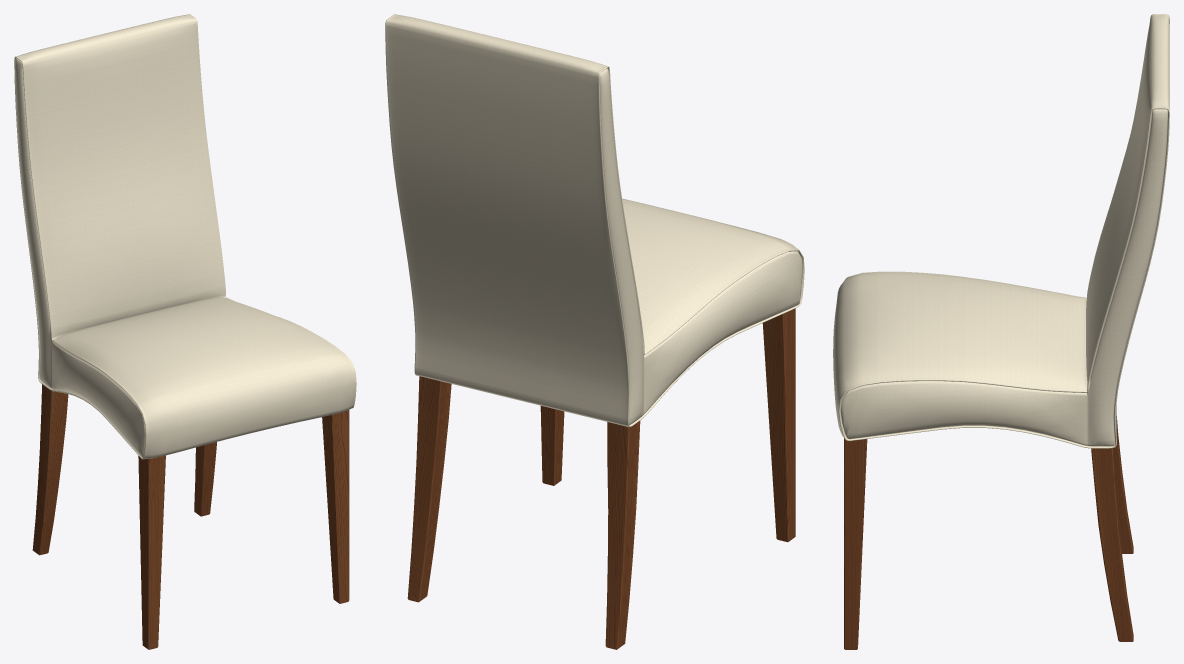
The model's file is cattelan_italia_cindy_obj.obj.
3 views of the same model, side by side, from view 1: azimuth 30°, elevation 25°; view 2: azimuth 150°, elevation 25°; view 3: azimuth 270°, elevation 25° (orthographic). The views are drawn at different scales.
Visible parts, largest first — view 1: cattelan_italia_cindy; view 2: cattelan_italia_cindy; view 3: cattelan_italia_cindy.
Boxes of the visible parts, x1,y1,x2,y2 form: cattelan_italia_cindy: [14, 14, 356, 649]; cattelan_italia_cindy: [385, 14, 804, 649]; cattelan_italia_cindy: [833, 14, 1169, 649].
Bounding box in the file's own units: 44 × 95.66 × 54.28.
2 materials, 2 textured.
